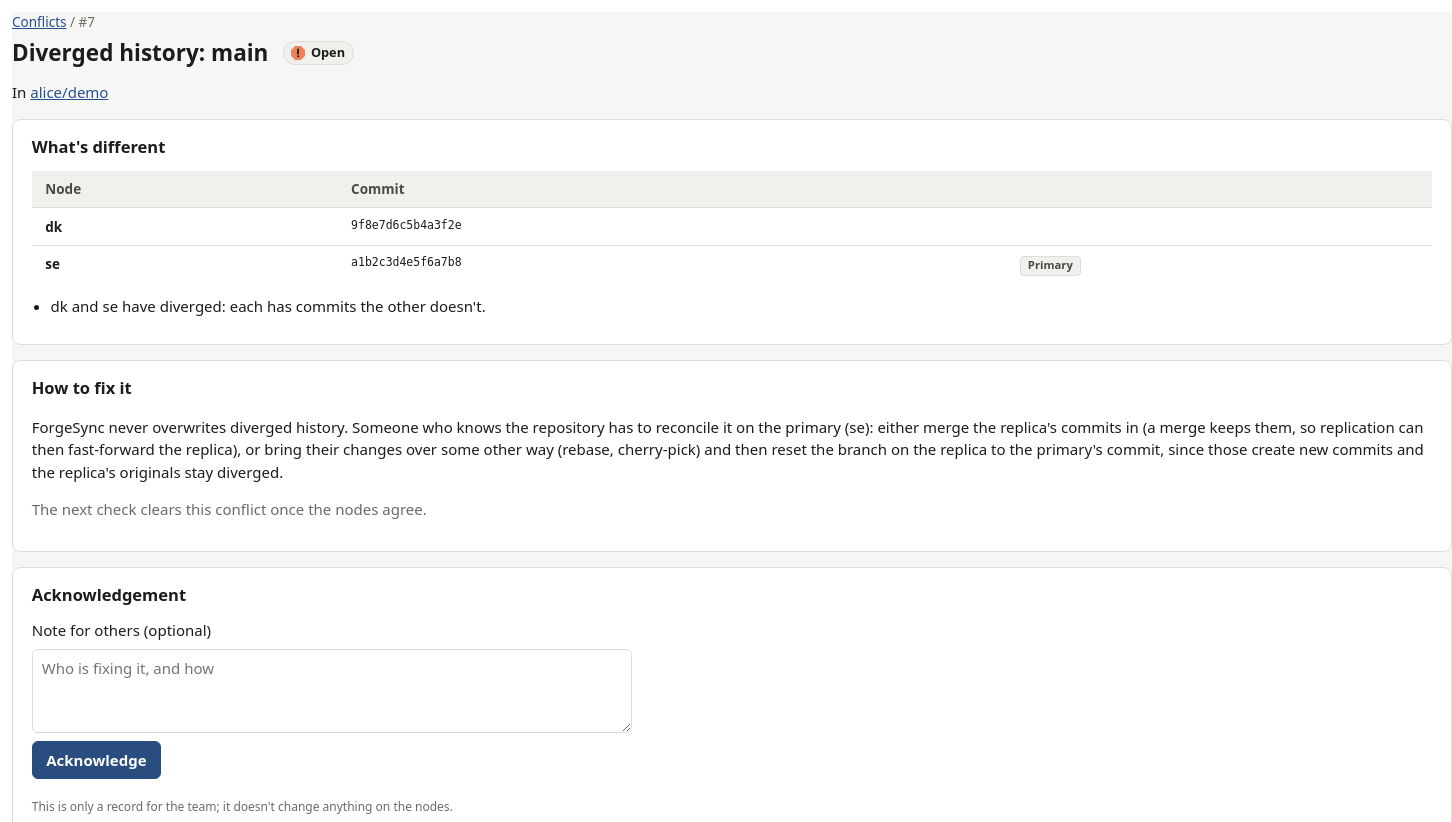
Test: ConflictDetail › lets operators acknowledge with a note
Type "Bob is merging it" into the text box labelled "Note for others (optional)" at (332, 691), box [32, 649, 632, 733]
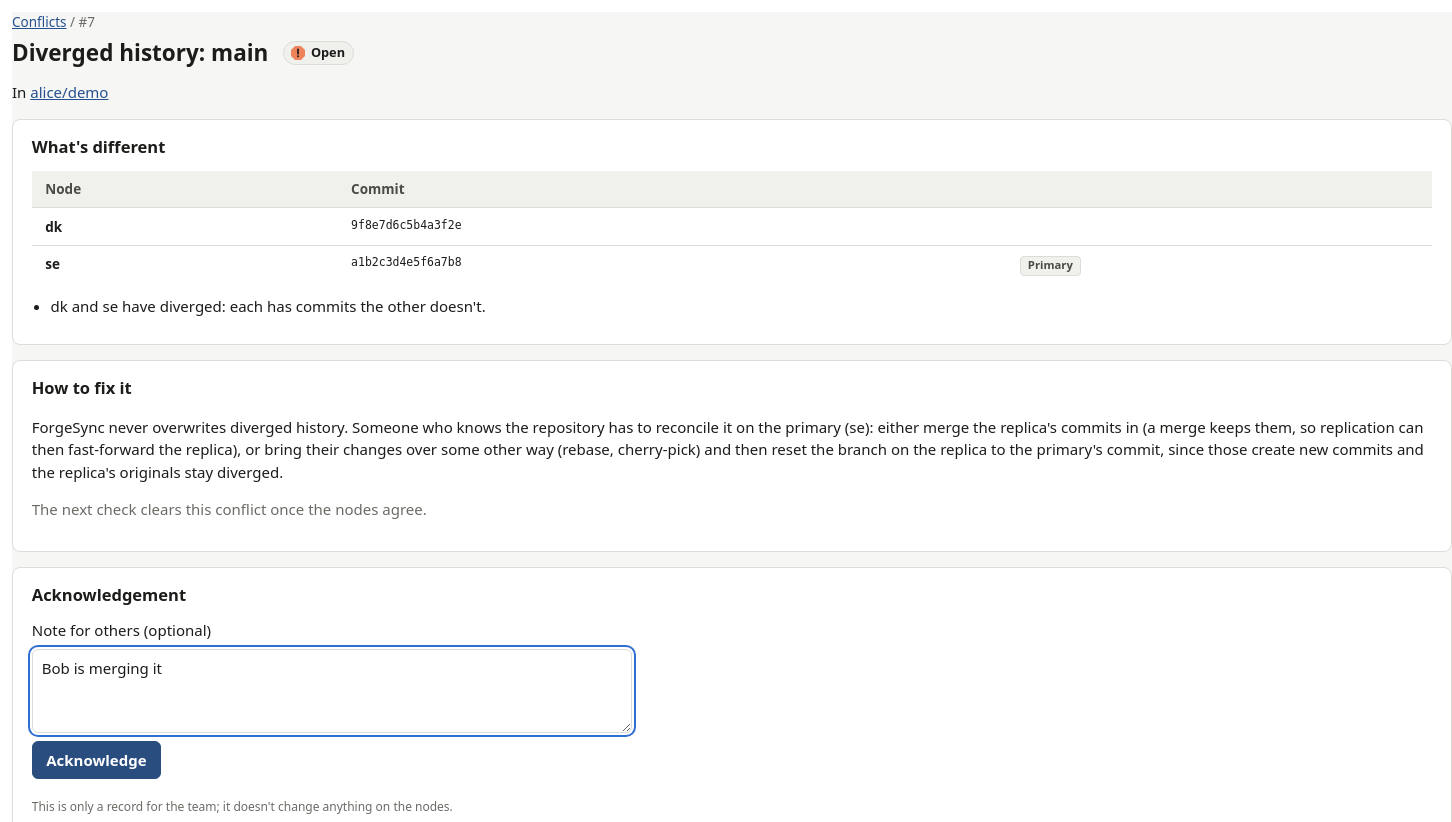
Click the button "Acknowledge" at (96, 760), box [32, 741, 161, 779]
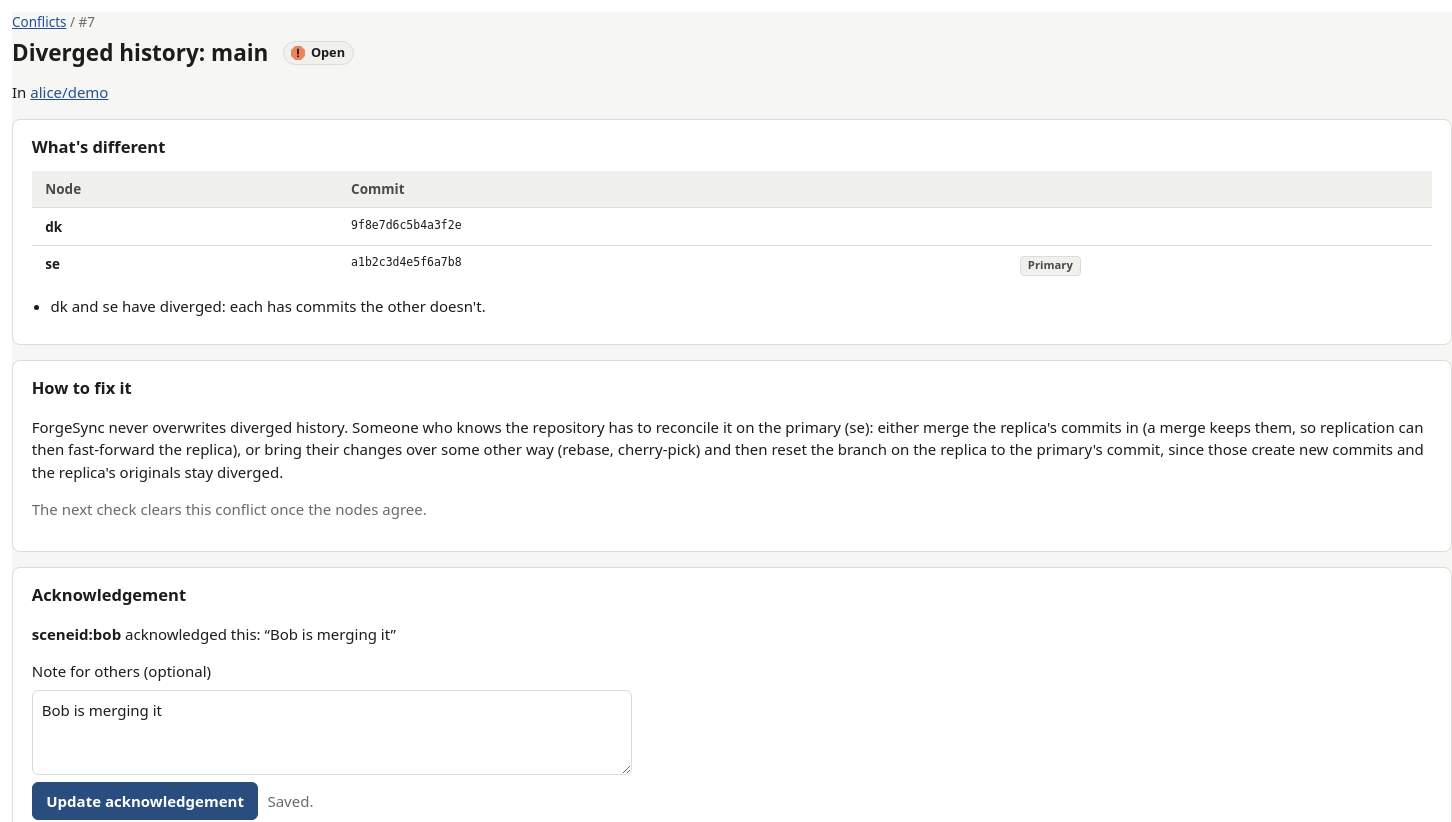
Now the message reads "Saved.", box [267, 791, 313, 811]
Now the text "Bob is merging it" is shown, box [264, 624, 396, 644]
